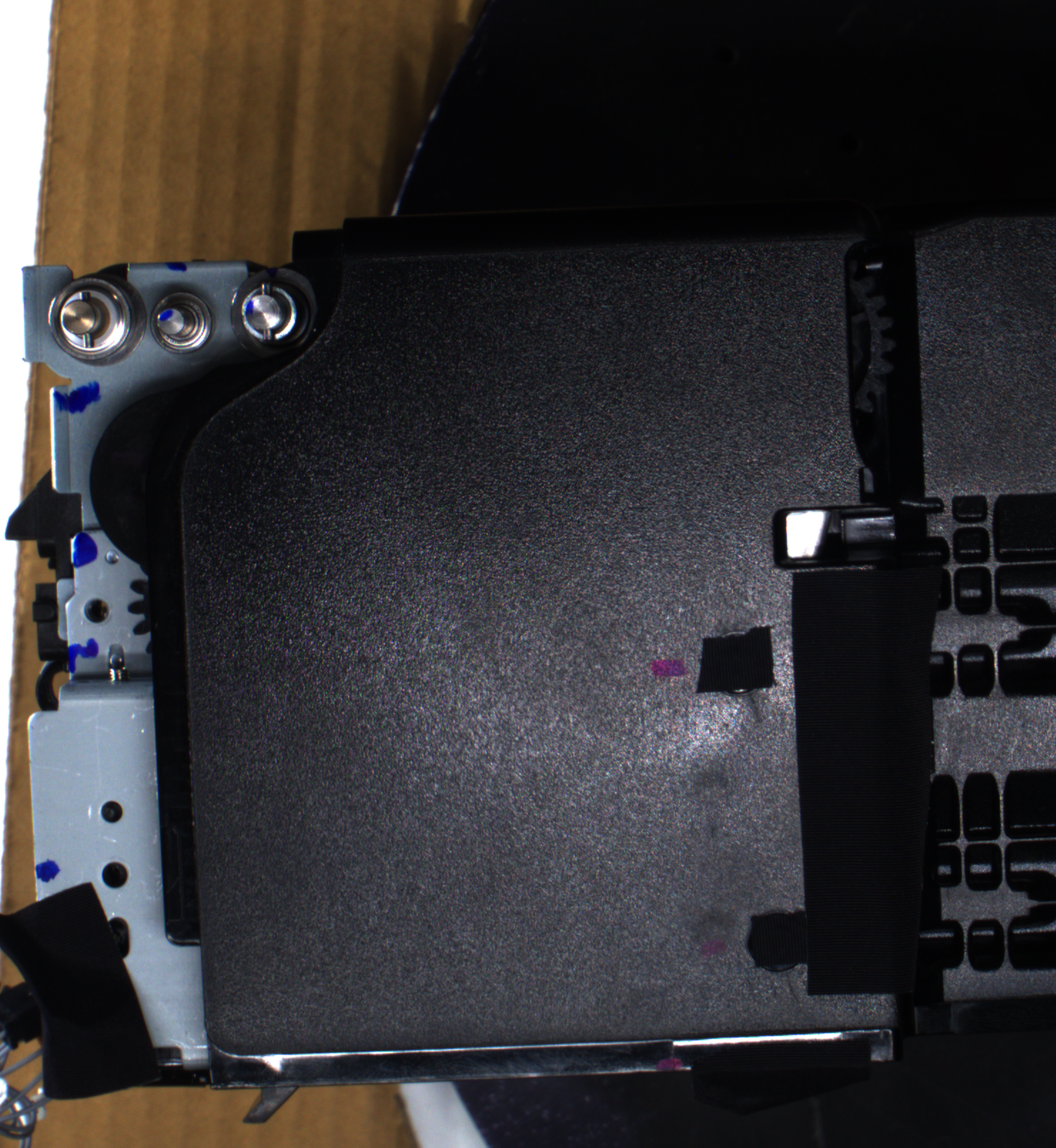gear1_absence: (45, 271, 147, 368)
gear2_absence: (144, 286, 217, 358)
gear3_absence: (226, 270, 319, 357)
side_screw_absence: (94, 855, 134, 896), (78, 594, 114, 630)
